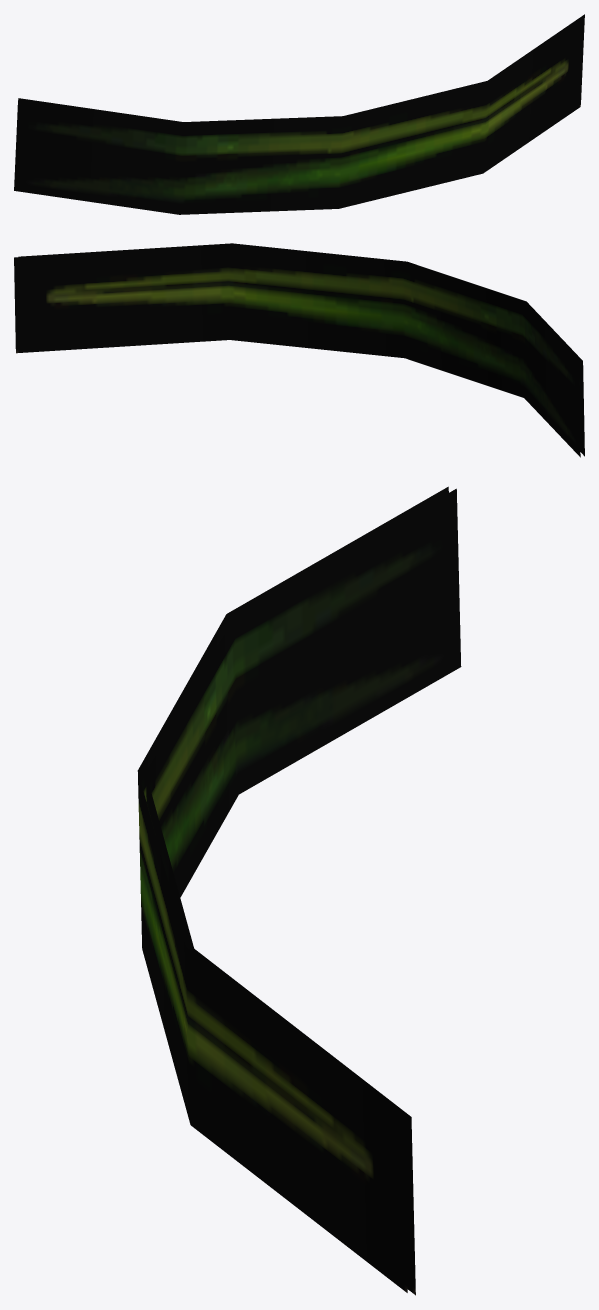
File: plant_dracaena02_leaf01.dae
3 views of the same model, one above another, from view 1: azimuth 30°, elevation 25°; view 2: azimuth 150°, elevation 25°; view 3: azimuth 270°, elevation 25° (orthographic). The views are drawn at different scales.
Visible parts, largest first — view 1: plant_dracaena06; view 2: plant_dracaena06; view 3: plant_dracaena06.
Boxes of the visible parts, left/top/right/bottom form: plant_dracaena06: left=14, top=14, right=584, bottom=214; plant_dracaena06: left=14, top=243, right=584, bottom=457; plant_dracaena06: left=137, top=486, right=461, bottom=1295.
Size of the model in its own units: 0.1367 by 0.0312 by 0.0341.
